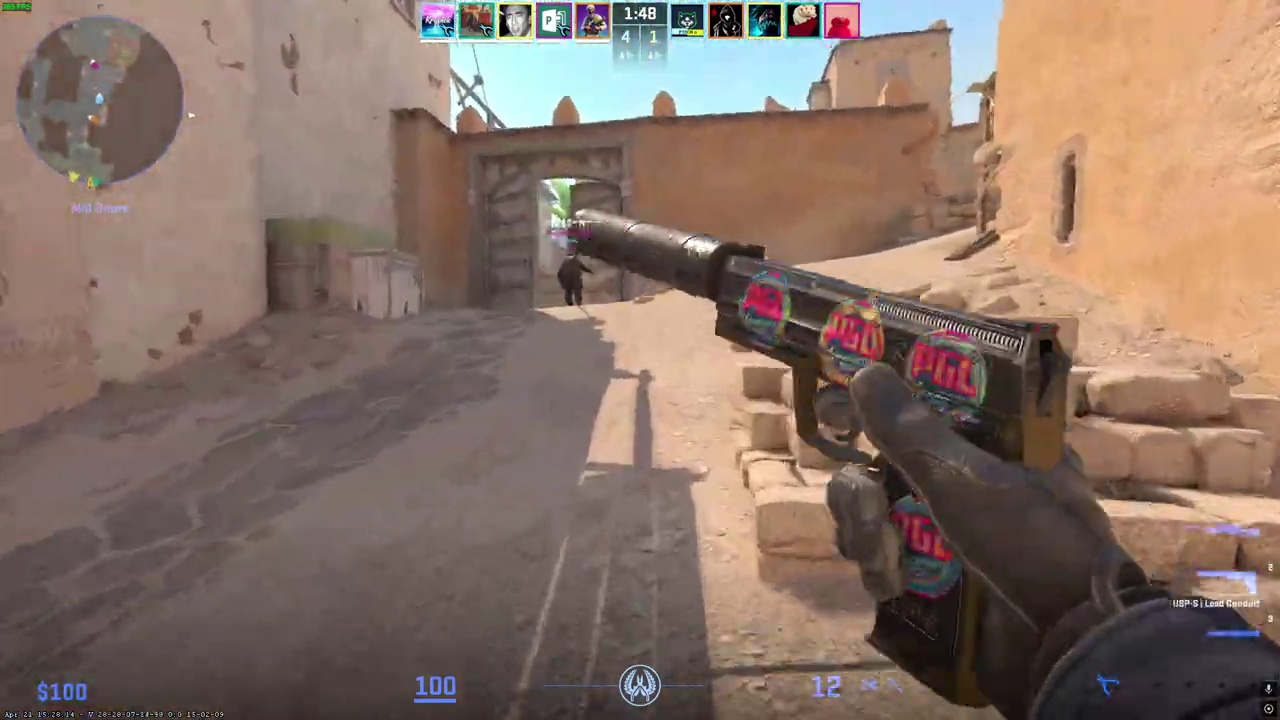CT: (560, 253, 587, 306)
